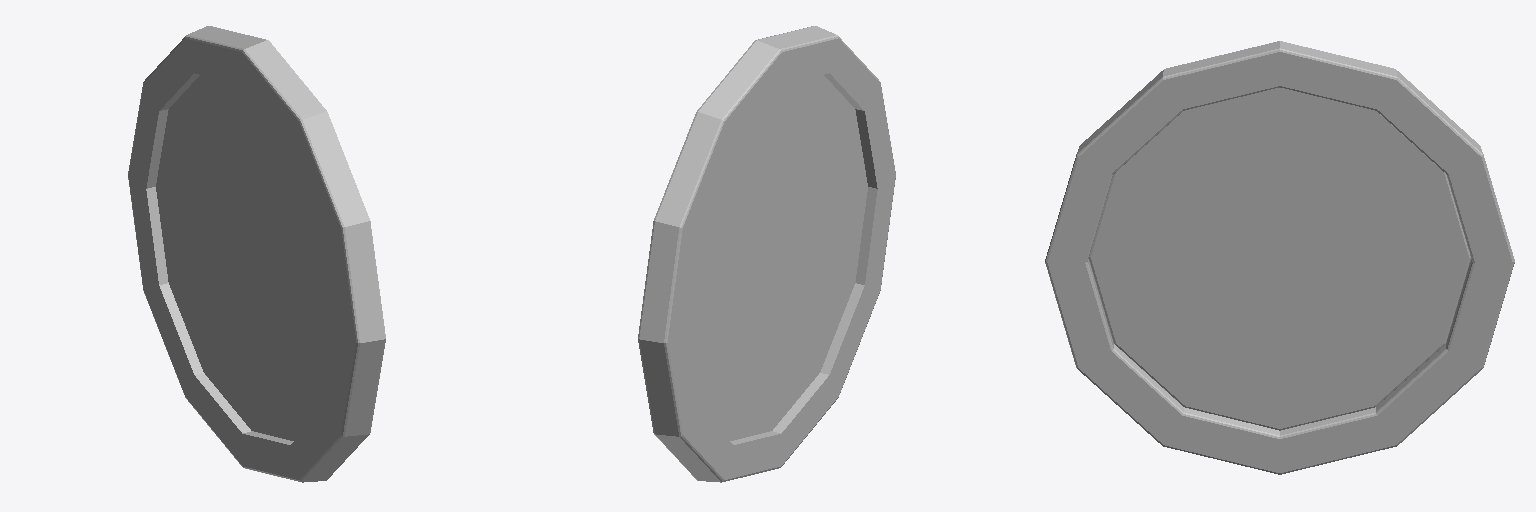
The model's file is Clock.obj.
3 renders of one model, left to right at view 1: azimuth 30°, elevation 25°; view 2: azimuth 150°, elevation 25°; view 3: azimuth 270°, elevation 25°, orthographic.
Visible parts, largest first — view 1: Clock; view 2: Clock; view 3: Clock.
Boxes of the visible parts, x1,y1,x2,y2 form: Clock: [128, 26, 385, 482]; Clock: [638, 26, 895, 482]; Clock: [1045, 41, 1514, 474].
Size of the model in its own units: 0.2964 by 4.43 by 4.43.